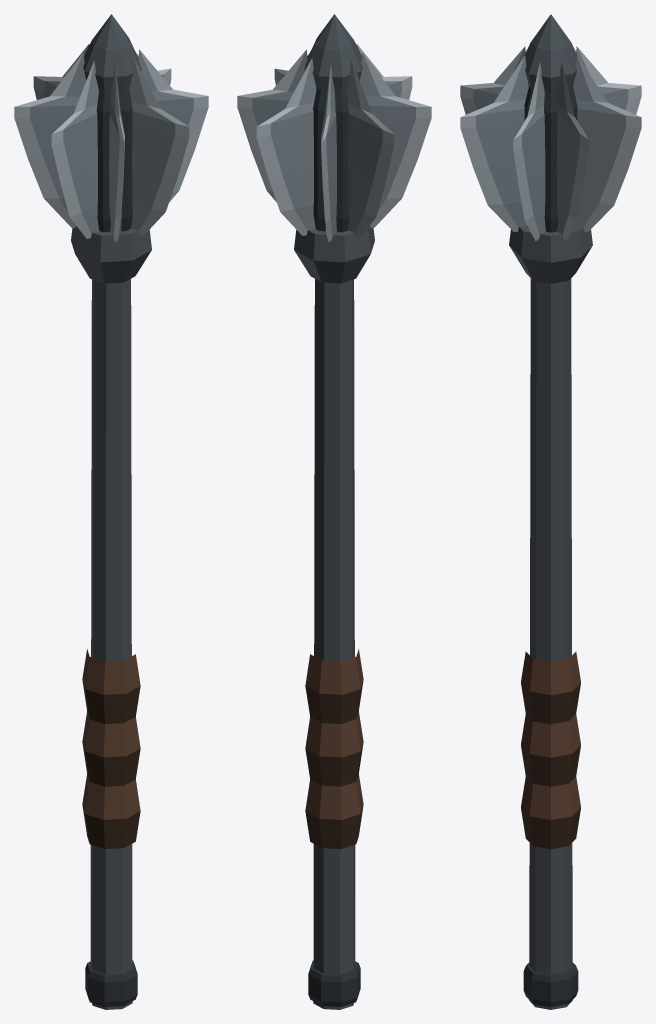
Rendered from mdvl_weapons_mace_01.glb.
The picture shows the model from 3 angles, left to right: view 1: azimuth 30°, elevation 25°; view 2: azimuth 150°, elevation 25°; view 3: azimuth 270°, elevation 25°; orthographic projection.
Visible parts, largest first — view 1: mdvl_weapons_mace_01; view 2: mdvl_weapons_mace_01; view 3: mdvl_weapons_mace_01.
Part boxes in pixels (x1,y1,x2,y2): mdvl_weapons_mace_01: (14, 14, 208, 1009); mdvl_weapons_mace_01: (237, 14, 431, 1009); mdvl_weapons_mace_01: (460, 14, 641, 1009).
Bounding box in the file's own units: 0.1164 × 0.7 × 0.1164.
1 material, 1 textured.
